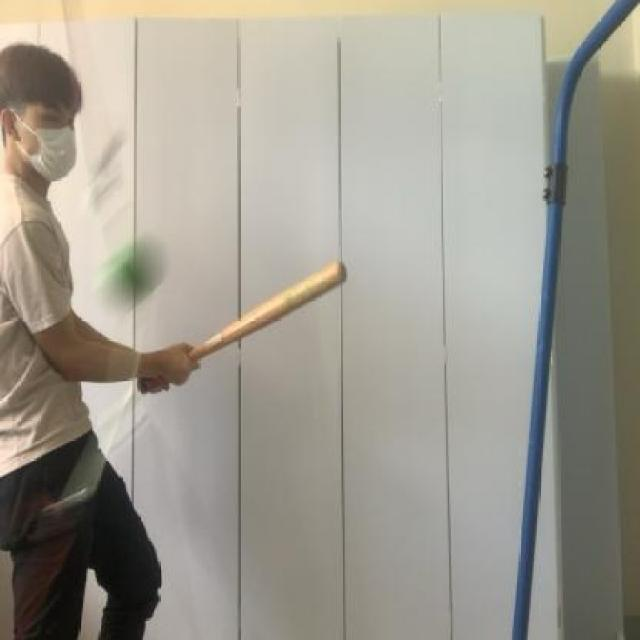baseball: (99, 228, 175, 320)
